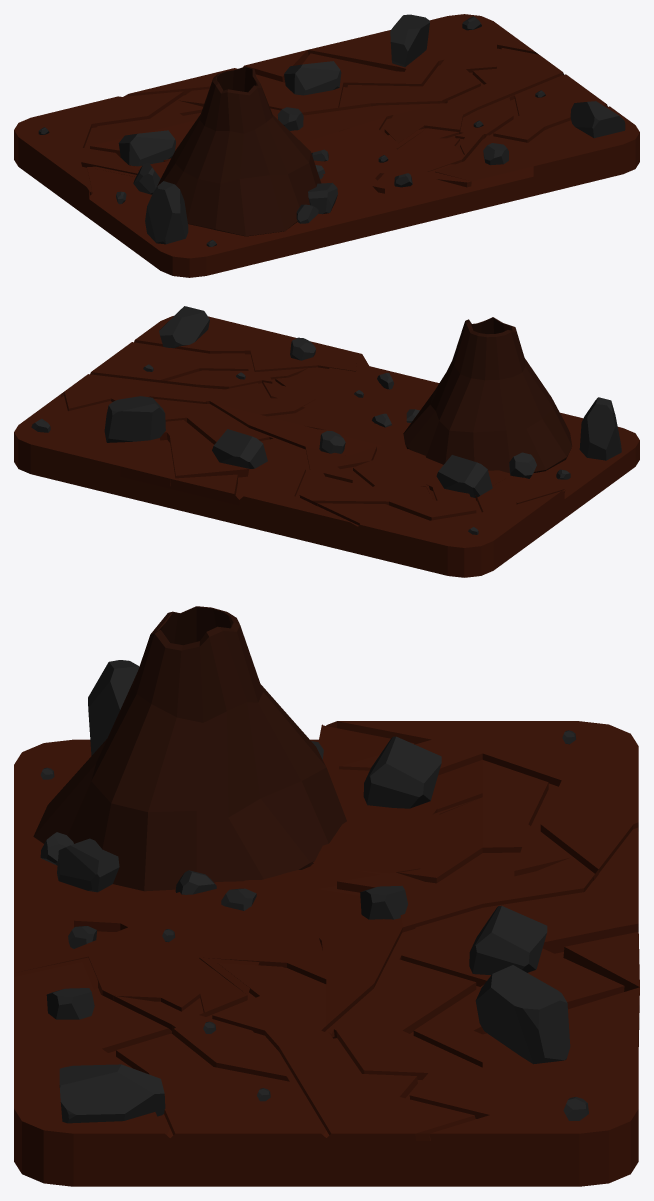
File: Habitat_destruido_fogo.fbx
3 renders of one model, top to bottom at view 1: azimuth 30°, elevation 25°; view 2: azimuth 150°, elevation 25°; view 3: azimuth 270°, elevation 25°, orthographic. The views are drawn at different scales.
Parts seen in each view (by area): view 1: Plataforma_água.001, vulcão, Pedra1.001, pedra9.001, pedra3.002, pedra9.002, Pedra1.002, pedra9.003, pedra2.004, pedra2.002, pedra2.001; view 2: Plataforma_água.001, vulcão, pedra3.002, Pedra1.001, pedra9.001, pedra9.002, Pedra1.002, pedra2.004, pedra2.001, pedra2.002; view 3: Plataforma_água.001, vulcão, pedra3.002, Pedra1.002, pedra9.001, pedra9.002, Pedra1.001, pedra9.003, pedra2.001, pedra2.002.
Part boxes in pixels (box(x1,y1,x2,y2)): Plataforma_água.001: box(14, 14, 639, 277); vulcão: box(157, 66, 321, 236); Pedra1.001: box(145, 181, 188, 244); pedra9.001: box(118, 130, 175, 166); pedra3.002: box(390, 14, 429, 67); pedra9.002: box(284, 61, 341, 95); Pedra1.002: box(570, 101, 625, 138); pedra9.003: box(308, 182, 337, 214); pedra2.004: box(133, 163, 160, 194); pedra2.002: box(483, 143, 508, 165); pedra2.001: box(277, 107, 303, 130); Plataforma_água.001: box(14, 316, 639, 577); vulcão: box(403, 317, 572, 473); pedra3.002: box(104, 396, 165, 442); Pedra1.001: box(579, 397, 621, 460); pedra9.001: box(436, 455, 492, 497); pedra9.002: box(212, 429, 267, 468); Pedra1.002: box(159, 306, 209, 348); pedra2.004: box(509, 452, 536, 478); pedra2.001: box(319, 430, 345, 453); pedra2.002: box(290, 337, 315, 360); Plataforma_água.001: box(14, 721, 639, 1186); vulcão: box(33, 606, 346, 891); pedra3.002: box(475, 965, 570, 1064); Pedra1.002: box(59, 1064, 165, 1123); pedra9.001: box(363, 736, 441, 808); pedra9.002: box(469, 905, 547, 974); Pedra1.001: box(88, 660, 139, 755); pedra9.003: box(57, 838, 119, 892); pedra2.001: box(360, 885, 407, 919); pedra2.002: box(46, 988, 94, 1019).
Bounding box in the file's own units: 500 × 145 × 321.
